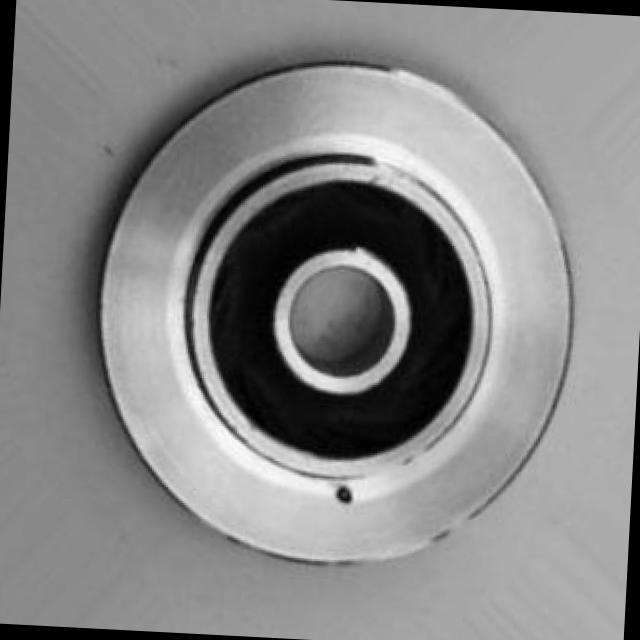Defect: (335, 481, 357, 509)
